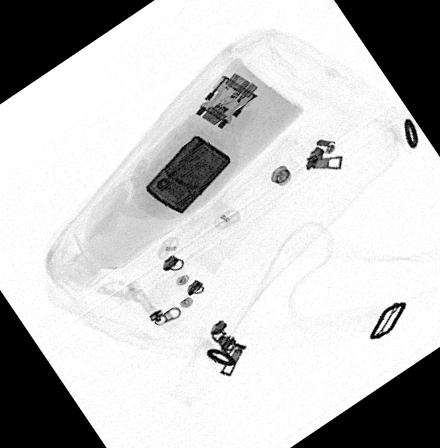Lighter: (143, 133, 230, 213)
